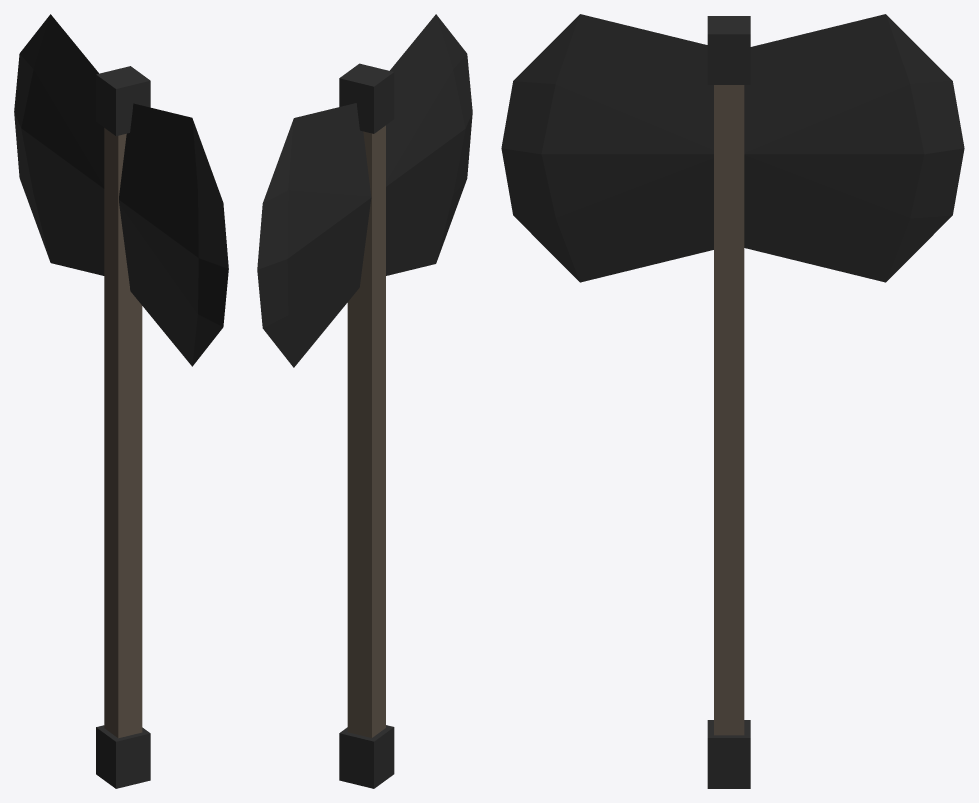
Rendered from Axe_01.fbx.
3 views of the same model, side by side, from view 1: azimuth 30°, elevation 25°; view 2: azimuth 150°, elevation 25°; view 3: azimuth 270°, elevation 25° (orthographic). The views are drawn at different scales.
Visible parts, largest first — view 1: Axe_01; view 2: Axe_01; view 3: Axe_01.
Part boxes in pixels (<box>): Axe_01: <box>14,14,228,788</box>; Axe_01: <box>257,14,472,788</box>; Axe_01: <box>501,14,964,788</box>.
Bounding box in the file's own units: 1.02 × 20 × 10.96.
